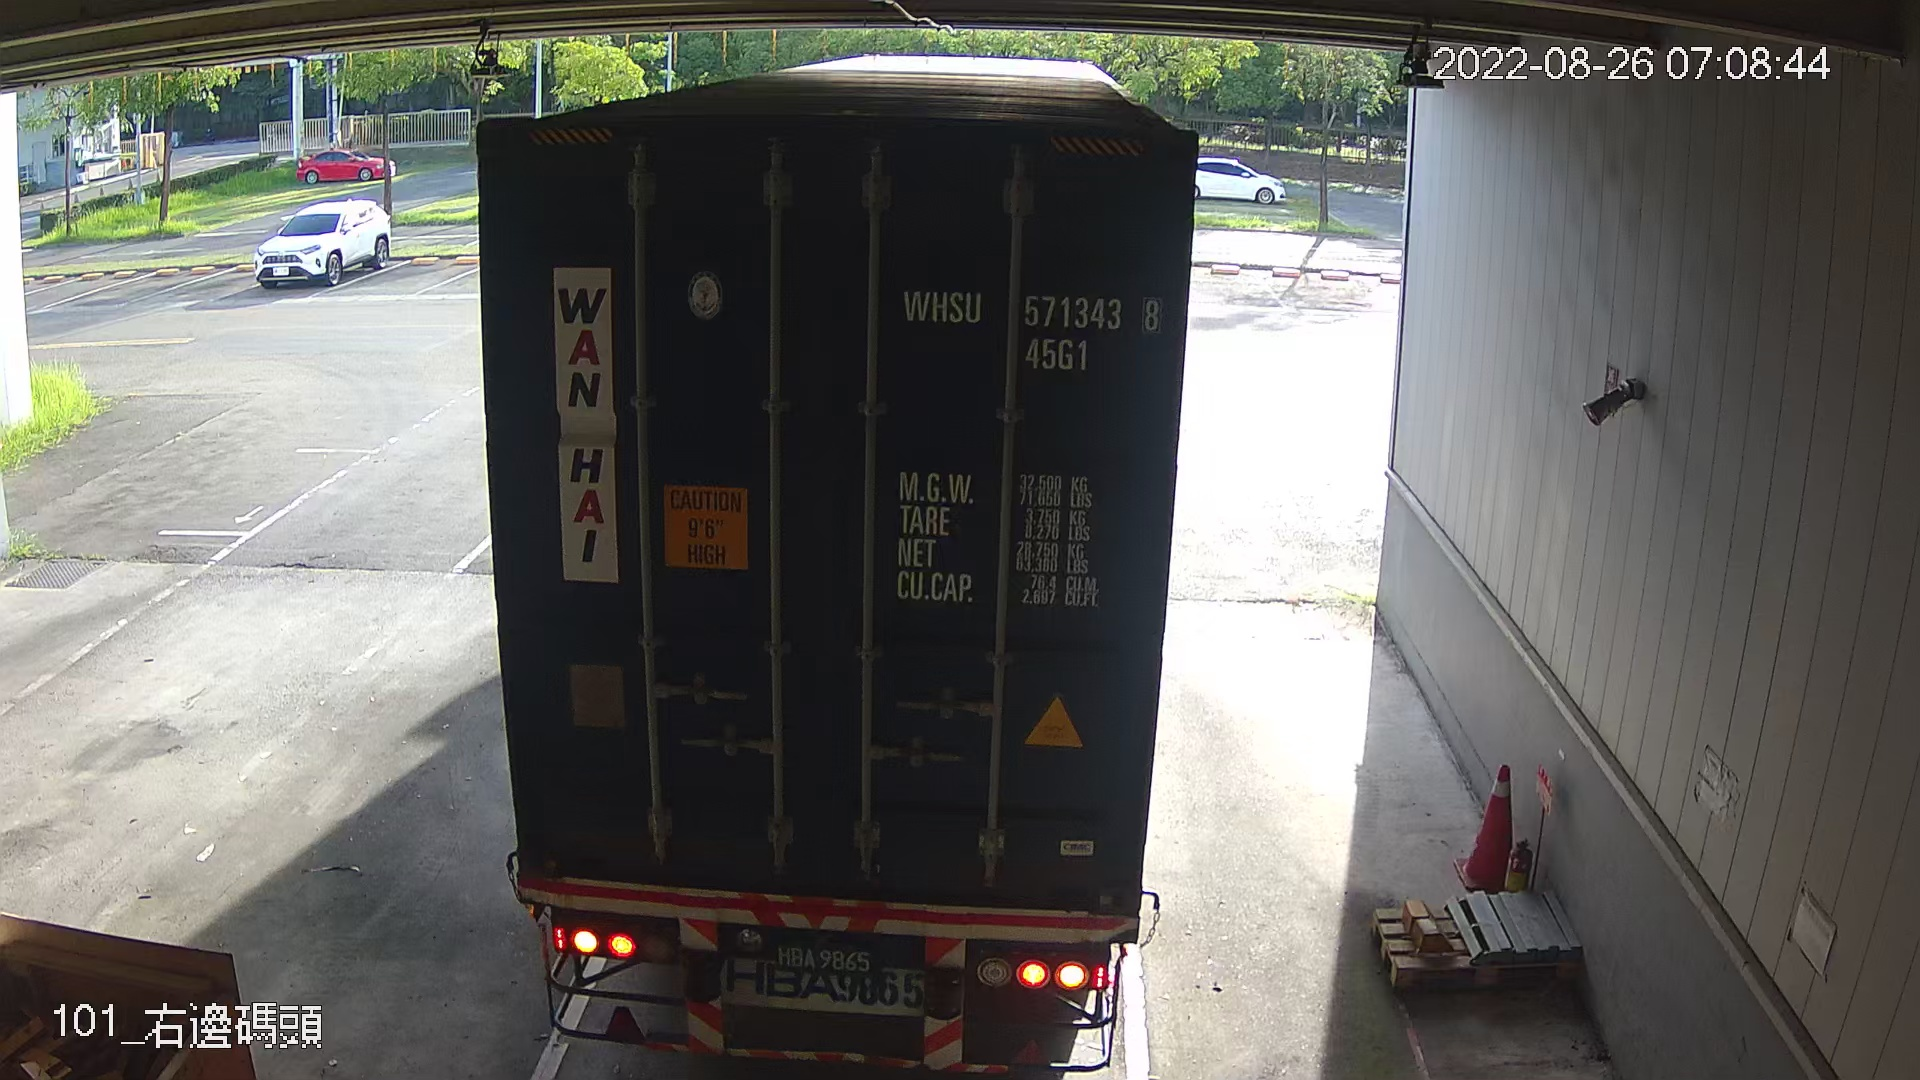container: (885, 266, 1176, 378)
